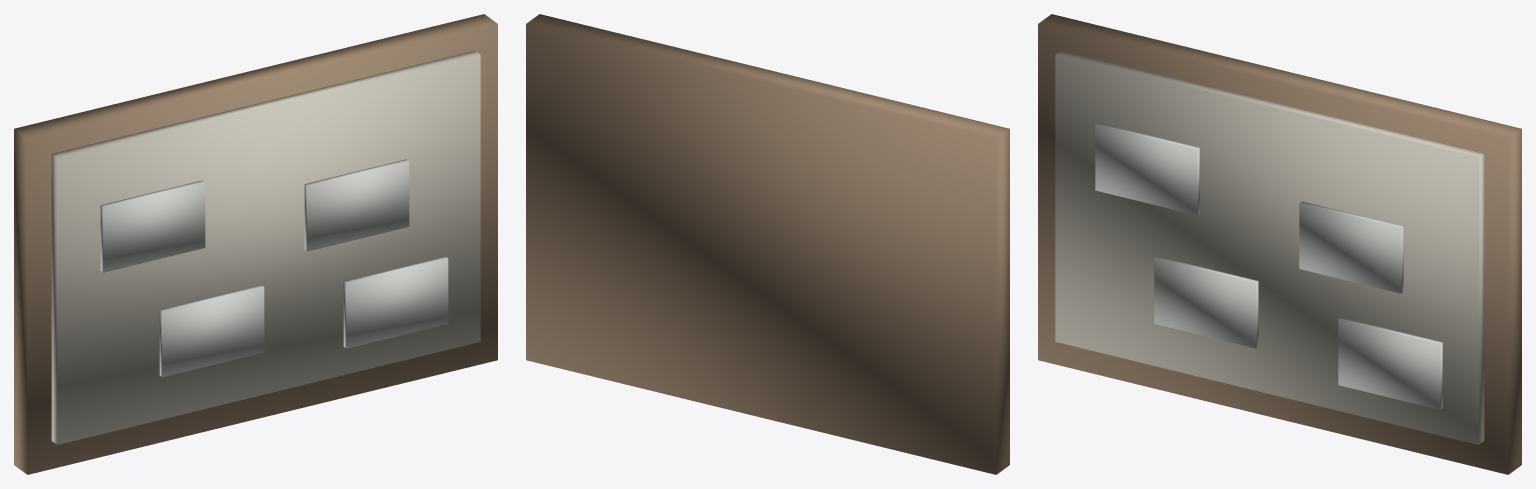
File: chalkboard.glb
3 renders of one model, left to right at view 1: azimuth 30°, elevation 25°; view 2: azimuth 150°, elevation 25°; view 3: azimuth 330°, elevation 25°, orthographic.
Parts seen in each view (by area): view 1: world; view 2: world; view 3: world.
Boxes of the visible parts, bbox=[...] form: world: bbox=[14, 14, 497, 474]; world: bbox=[526, 14, 1009, 474]; world: bbox=[1038, 14, 1521, 474].
Bounding box in the file's own units: 1.2 × 0.82 × 0.101.
